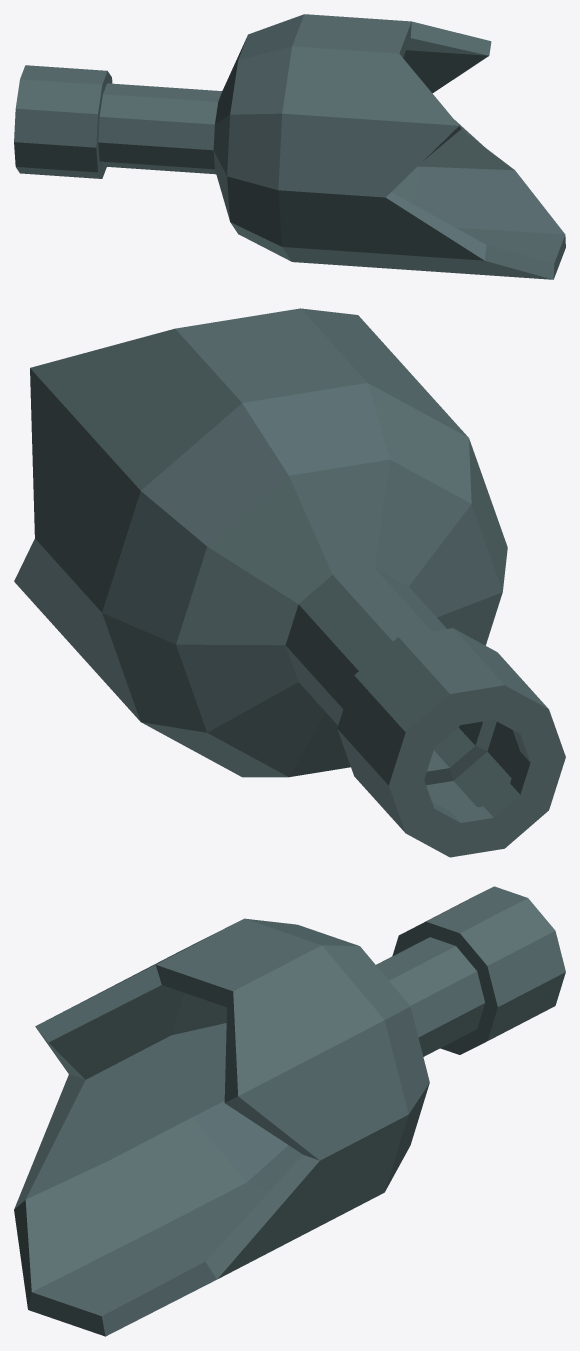
Rendered from bottle-broken-top.fbx.
The picture shows the model from 3 angles, top to bottom: view 1: azimuth 30°, elevation 25°; view 2: azimuth 150°, elevation 25°; view 3: azimuth 270°, elevation 25°; orthographic projection. The views are drawn at different scales.
Visible parts, largest first — view 1: bottle_broken_01; view 2: bottle_broken_01; view 3: bottle_broken_01.
Boxes of the visible parts, left/top/right/bottom form: bottle_broken_01: left=14, top=14, right=565, bottom=279; bottle_broken_01: left=14, top=308, right=565, bottom=857; bottle_broken_01: left=14, top=886, right=565, bottom=1336.
Bounding box in the file's own units: 40.31 × 19.94 × 35.76.
